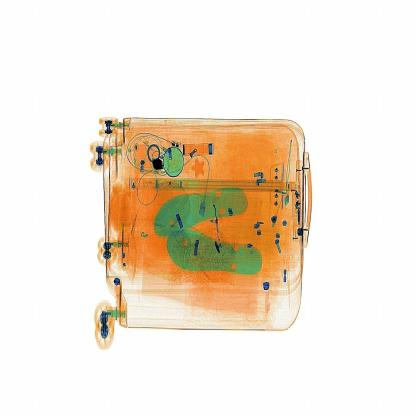scissors: (151, 153, 172, 180)
